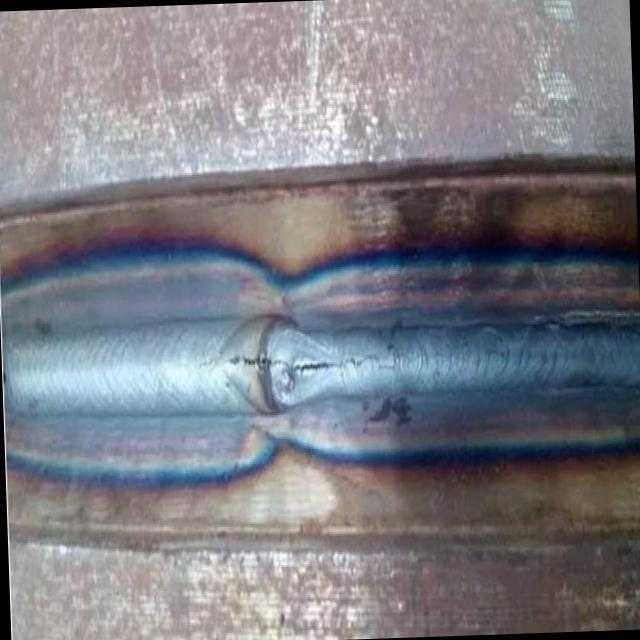defect: (223, 340, 407, 378)
